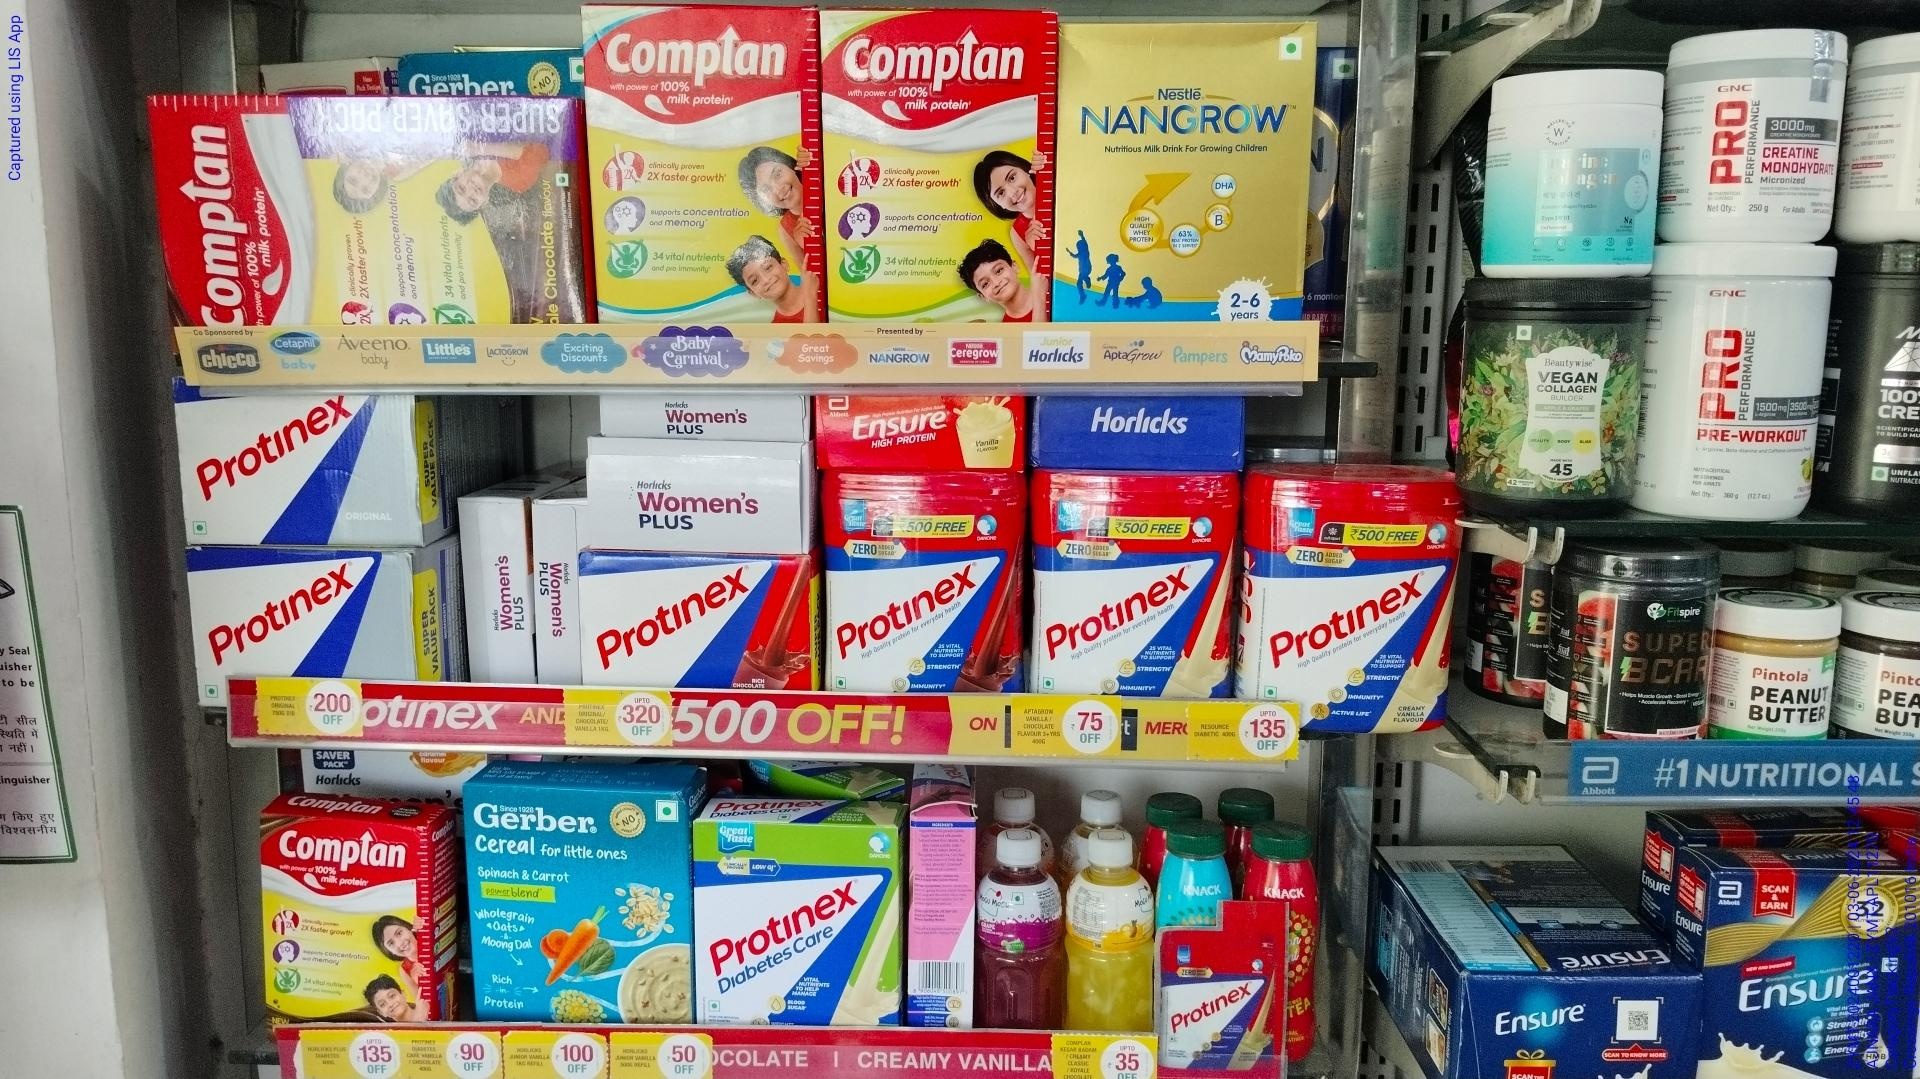PROTINEX_CHOCOLATE_400_G_JAR: (822, 472, 1019, 694)
PROTINEX_VANILLA_400_G_JAR: (1253, 463, 1452, 727), (1033, 472, 1230, 696), (698, 822, 898, 1030)
